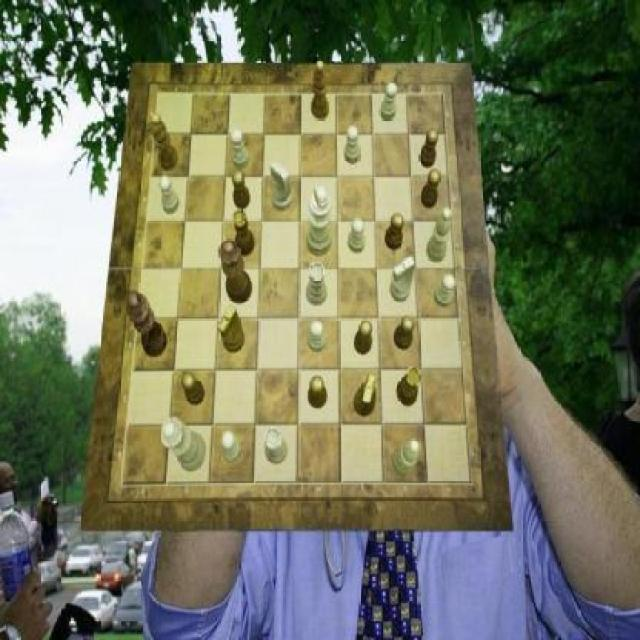bishop: (150, 112, 178, 170), (311, 60, 330, 120)
black-bishop: (128, 291, 168, 357)
black-king: (218, 306, 244, 354), (354, 374, 377, 416)
black-knight: (182, 374, 206, 408), (418, 128, 438, 168), (422, 169, 442, 208), (386, 212, 406, 250), (394, 315, 414, 350), (232, 171, 250, 209), (308, 376, 328, 410), (354, 320, 371, 356)
black-pawn: (220, 238, 254, 304)
black-queen: (232, 209, 255, 257), (397, 365, 421, 406)
black-rook: (428, 208, 452, 262), (392, 439, 420, 476)
white-bishop: (306, 185, 332, 257)
white-king: (391, 257, 415, 303), (269, 162, 292, 210)
white-knight: (231, 129, 251, 171), (160, 175, 180, 214), (434, 274, 456, 308), (380, 83, 398, 122), (222, 431, 242, 463), (345, 126, 360, 165), (348, 219, 365, 253), (308, 320, 325, 352)
white-pawn: (162, 416, 206, 472)
white-queen: (306, 262, 327, 306), (264, 426, 288, 464)
